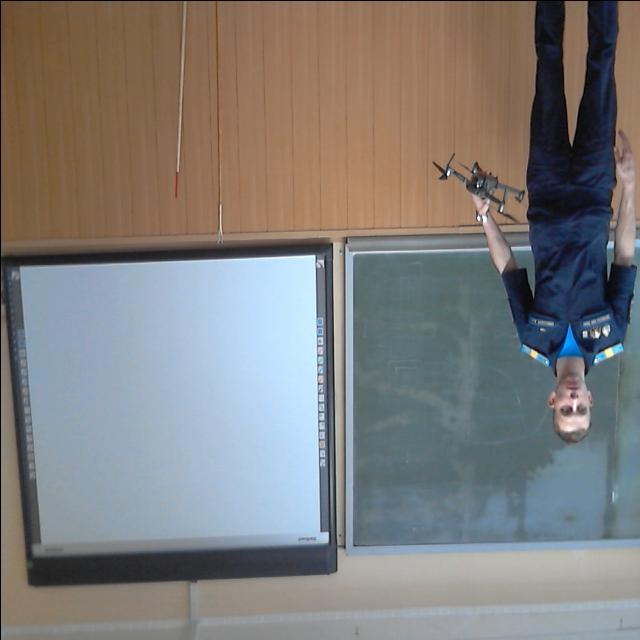drone: (425, 150, 533, 240)
